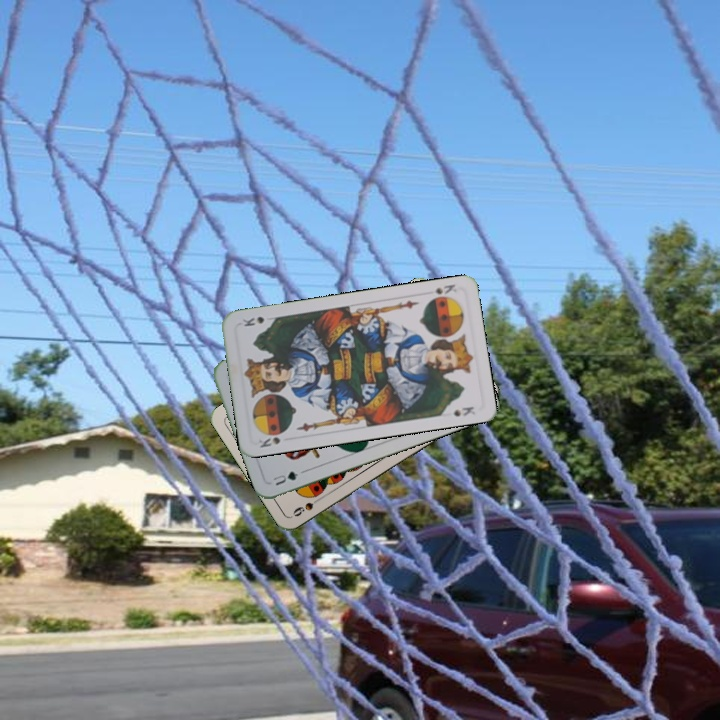GU: (268, 467, 301, 488)
S9: (288, 492, 325, 519)
SK: (254, 427, 290, 450), (425, 280, 459, 303)
